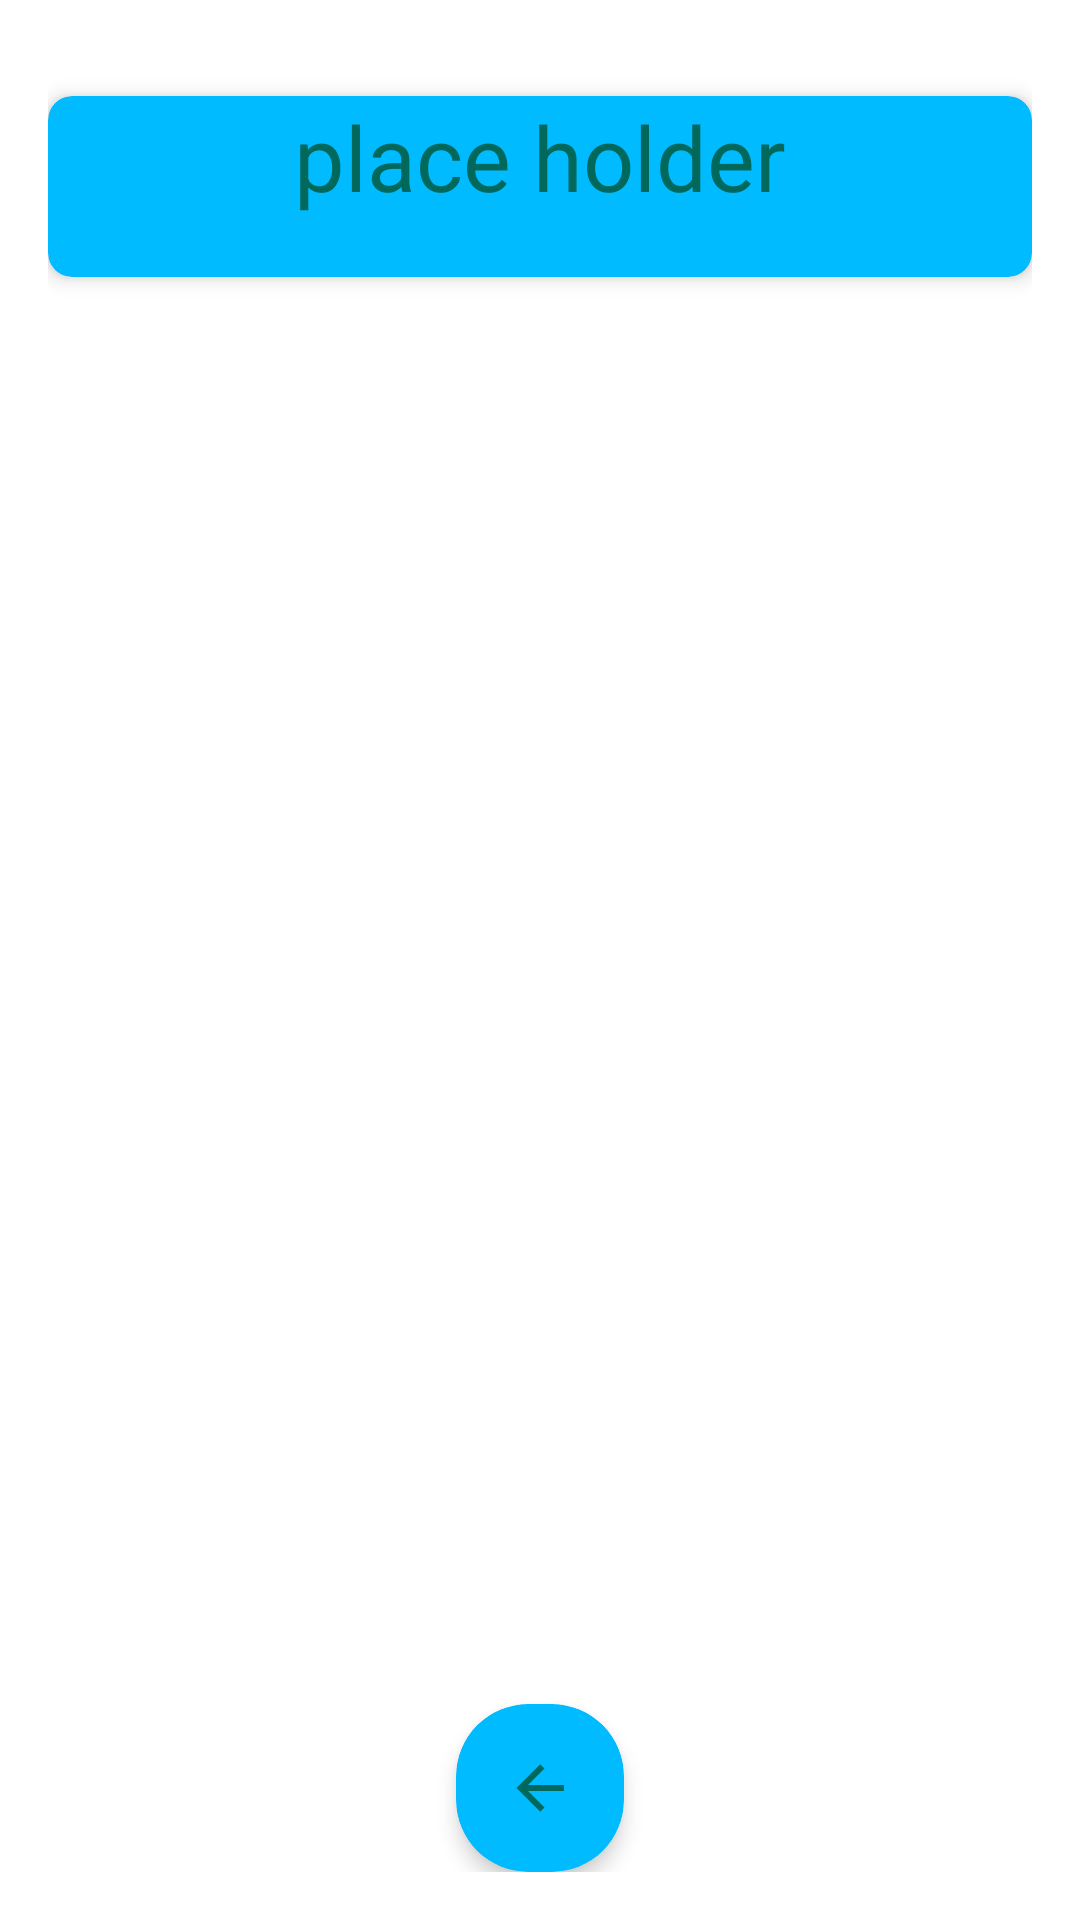

Screen size 1080×1920. Icon name, then its center in pixels as [x,y]:
back: [540,1788]
